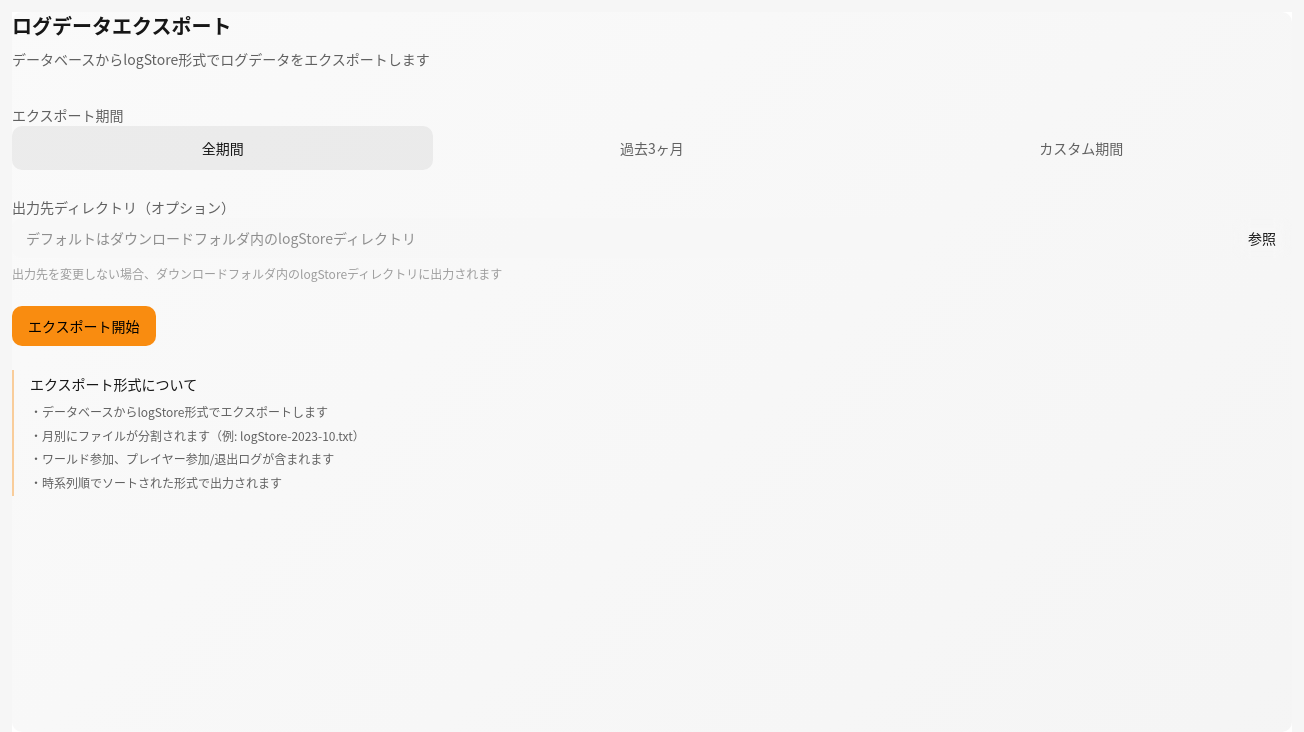
Test: DataExport › カスタム期間を選択すると日付入力が表示される
Click the button "カスタム期間".
click(1081, 148)  # box [871,126,1292,170]
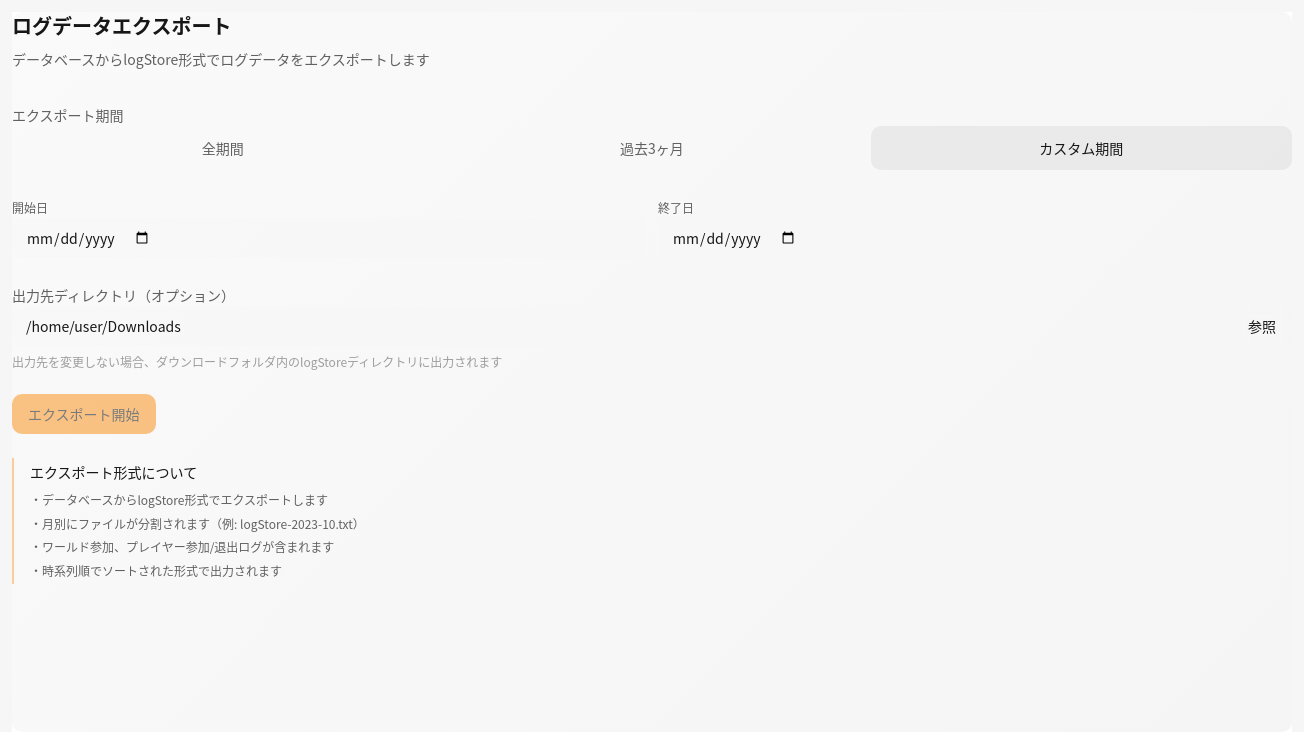
Check: the date field labelled "開始日" is shown, box [12,218,646,258]
Check: the date field labelled "終了日" is shown, box [658,218,1292,258]
